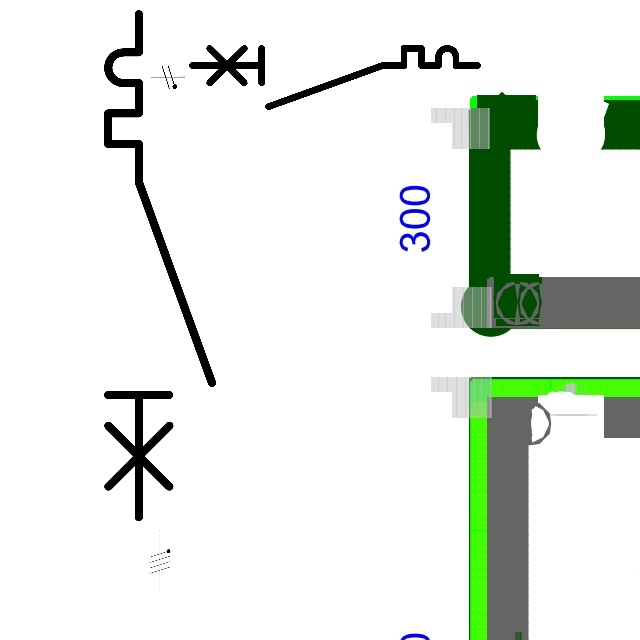interruptor_termomagnetico: (95, 1, 224, 530), (184, 41, 484, 114)
